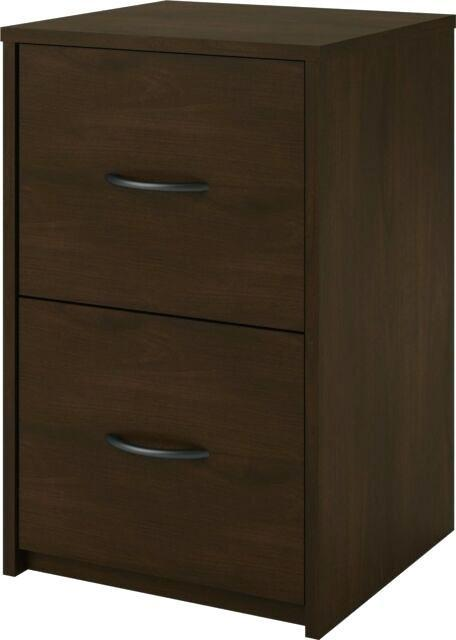cabinet_door: (17, 300, 309, 574), (18, 47, 308, 311)
handle: (104, 418, 212, 473), (102, 161, 212, 210)
